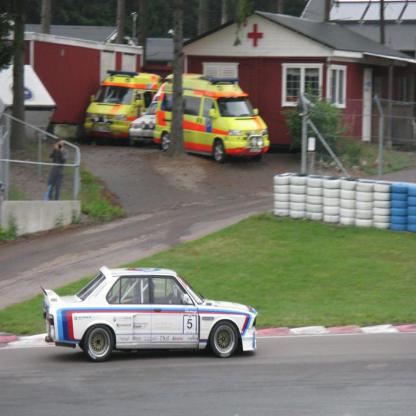Ambulance: (153, 73, 271, 165), (84, 70, 162, 148)
Truck: (166, 79, 272, 167), (84, 70, 159, 143)
